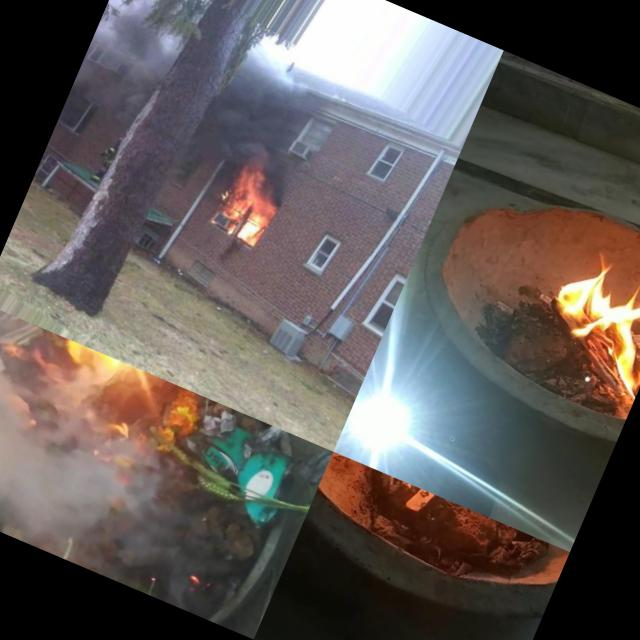fire: (519, 228, 640, 402), (212, 162, 287, 250)
smoke: (197, 56, 323, 182), (0, 302, 65, 526), (66, 2, 176, 130), (32, 337, 134, 441)
